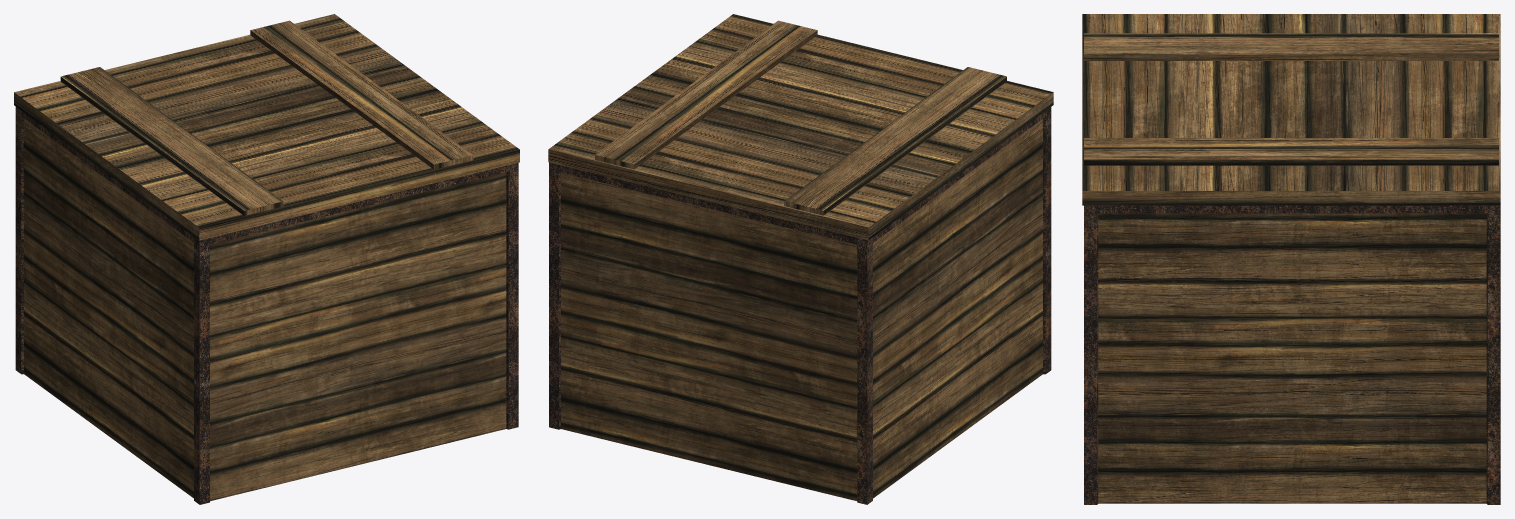
Rendered from WoodenCrate.FBX.
3 views of the same model, side by side, from view 1: azimuth 30°, elevation 25°; view 2: azimuth 150°, elevation 25°; view 3: azimuth 270°, elevation 25° (orthographic). The views are drawn at different scales.
Visible parts, largest first — view 1: LP_Holzkiste01, LP_Deckel_001; view 2: LP_Holzkiste01, LP_Deckel_001; view 3: LP_Holzkiste01, LP_Deckel_001.
Part boxes in pixels (bbox=[...]): LP_Holzkiste01: bbox=[15, 106, 518, 504]; LP_Deckel_001: bbox=[14, 14, 519, 240]; LP_Holzkiste01: bbox=[549, 107, 1051, 504]; LP_Deckel_001: bbox=[548, 14, 1053, 240]; LP_Holzkiste01: bbox=[1084, 205, 1500, 504]; LP_Deckel_001: bbox=[1082, 14, 1500, 205].
Size of the model in its own units: 130 by 130 by 110.
